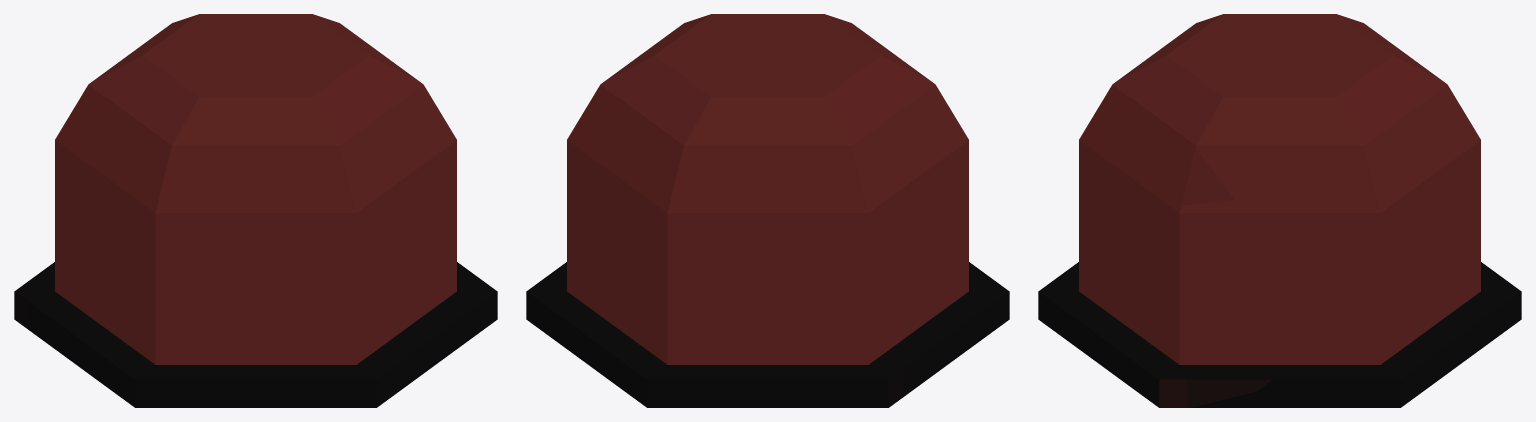
The model's file is warning light.glb.
3 views of the same model, side by side, from view 1: azimuth 30°, elevation 25°; view 2: azimuth 150°, elevation 25°; view 3: azimuth 270°, elevation 25° (orthographic).
Parts seen in each view (by area): view 1: Warning Light; view 2: Warning Light; view 3: Warning Light.
Boxes of the visible parts, x1,y1,x2,y2 form: Warning Light: (14,14,497,407); Warning Light: (526,14,1009,407); Warning Light: (1038,14,1521,407).
Size of the model in its own units: 0.0989 by 0.0689 by 0.1142.
1 material, 1 textured.
